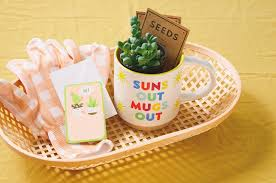mug: (89, 35, 223, 130)
